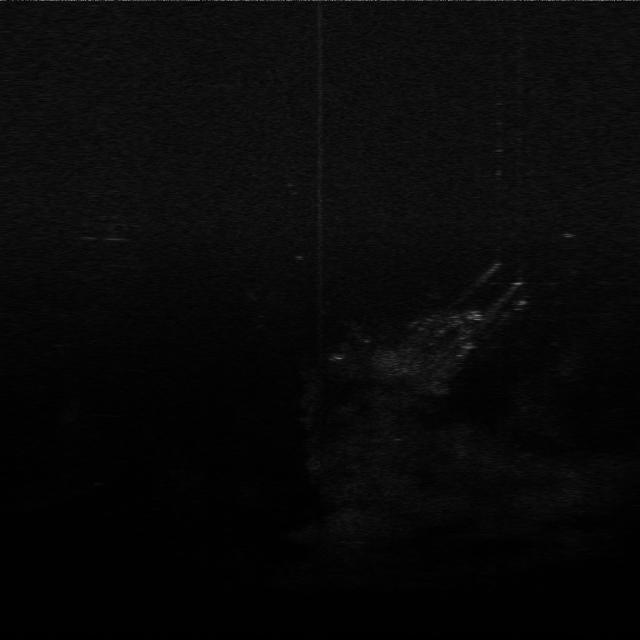rov: (463, 305, 488, 327)
